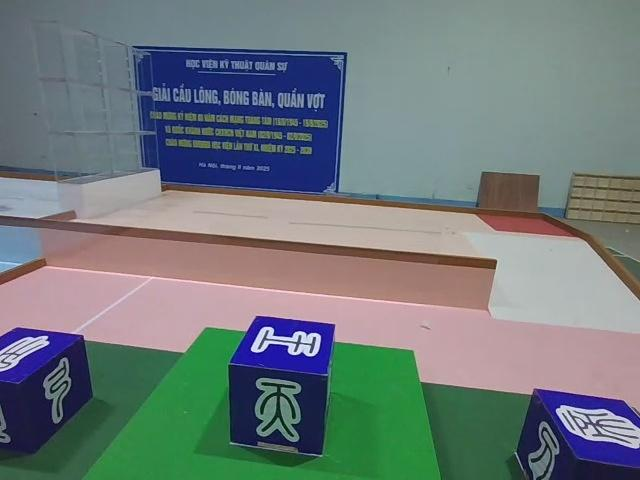R2 Fake Blue: (228, 315, 337, 457), (512, 390, 638, 480), (0, 326, 89, 450)
